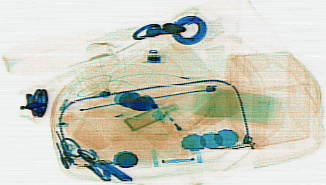lighter: (151, 102, 200, 154)
